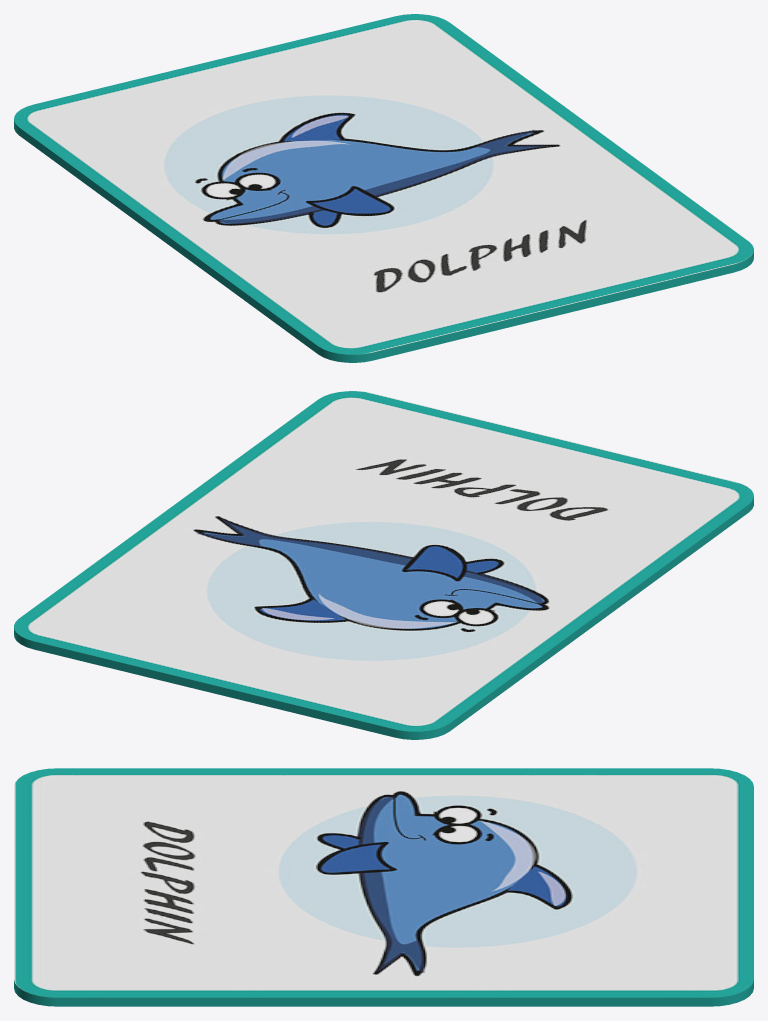
File: carta memory_dolphin.fbx
The picture shows the model from 3 angles, top to bottom: view 1: azimuth 30°, elevation 25°; view 2: azimuth 150°, elevation 25°; view 3: azimuth 270°, elevation 25°; orthographic projection. The views are drawn at different scales.
Visible parts, largest first — view 1: pCube1; view 2: pCube1; view 3: pCube1.
Part boxes in pixels (<box>): pCube1: <box>14,14,753,362</box>; pCube1: <box>14,391,753,739</box>; pCube1: <box>14,768,753,1006</box>.
Size of the model in its own units: 5.5 by 0.1 by 7.5.
Materials: 1 (1 with a texture image).
